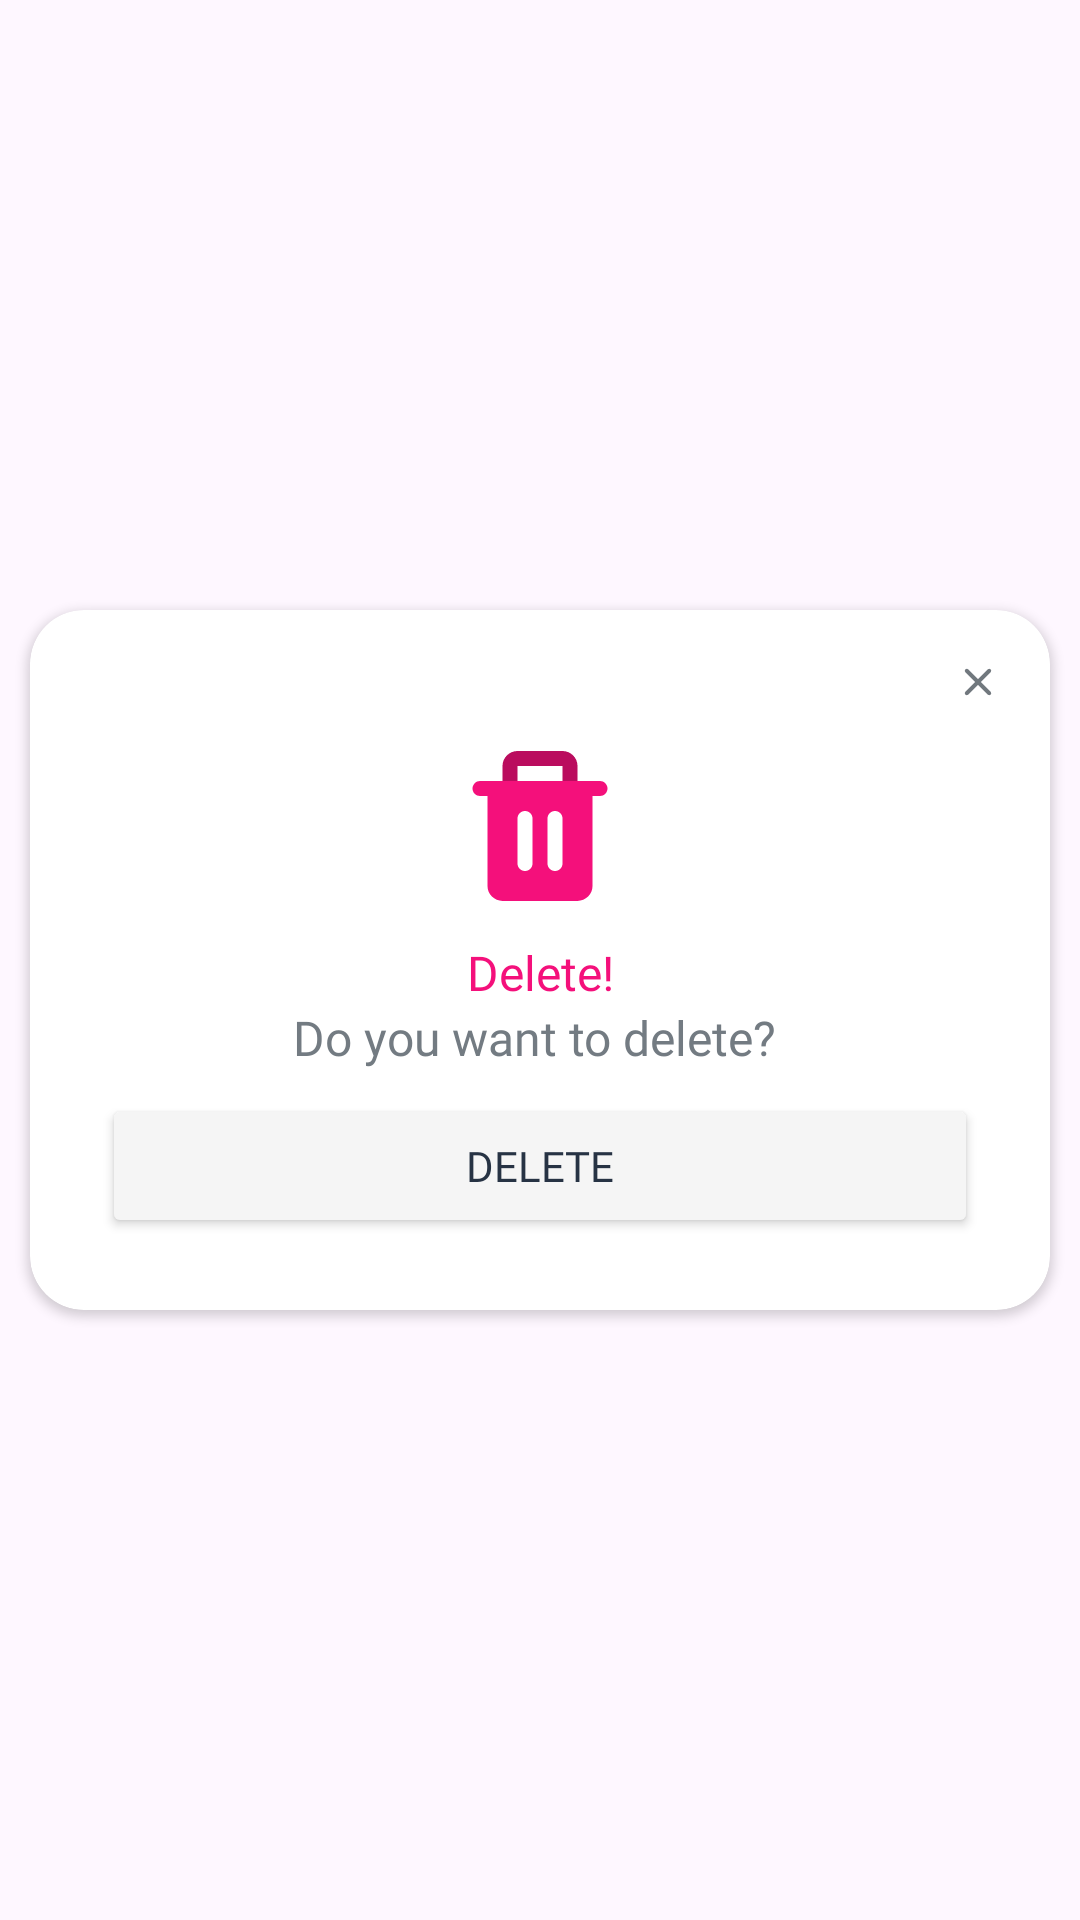

Named icons in this screenshot (1080 × 1920) and their centers, point (x, y):
close: point (978, 682)
